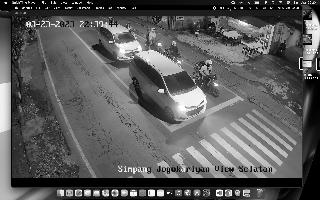mobil: (130, 50, 207, 122), (96, 22, 142, 62)
motor: (193, 60, 223, 98), (164, 40, 186, 68), (146, 28, 162, 53)
